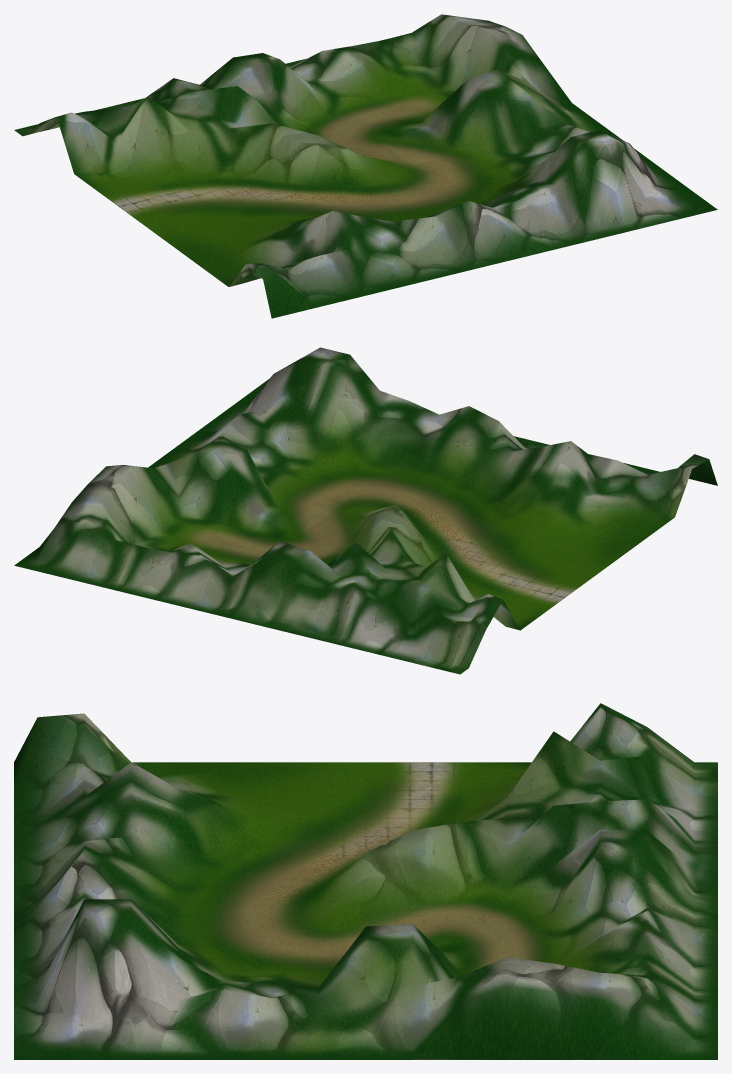
The model's file is SD_Terrain_02.fbx.
The picture shows the model from 3 angles, top to bottom: view 1: azimuth 30°, elevation 25°; view 2: azimuth 150°, elevation 25°; view 3: azimuth 270°, elevation 25°; orthographic projection. The views are drawn at different scales.
Parts seen in each view (by area): view 1: polySurface26; view 2: polySurface26; view 3: polySurface26.
Boxes of the visible parts, <box> form: polySurface26: <box>14,14,717,318</box>; polySurface26: <box>14,347,717,674</box>; polySurface26: <box>14,703,717,1059</box>.
Size of the model in its own units: 66 by 9.42 by 66.
